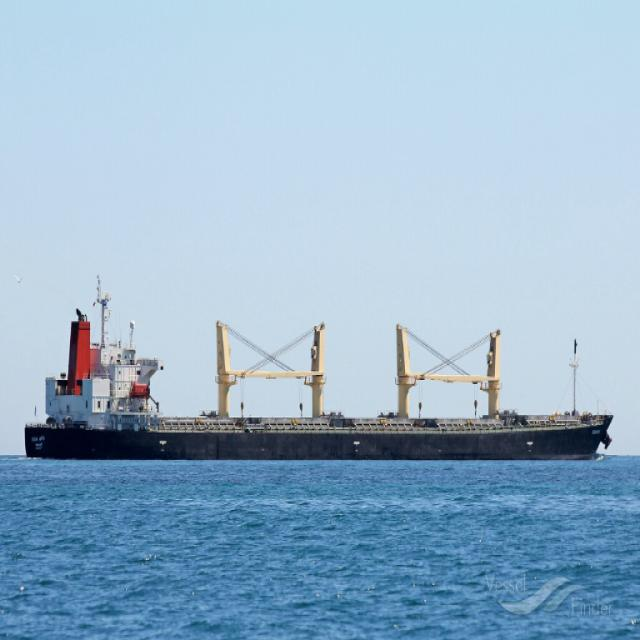OCR: (27, 431, 48, 454)
